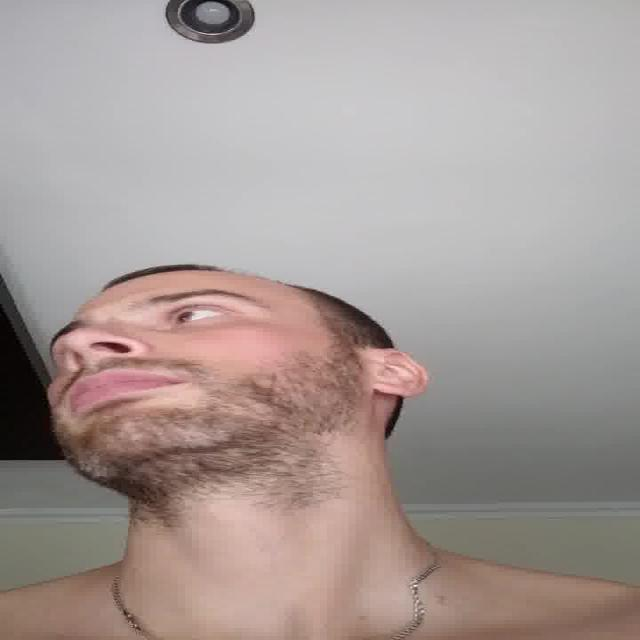earlobe: (369, 382, 432, 399)
eye: (167, 306, 231, 329)
nose: (55, 348, 153, 376)
wholeear: (371, 347, 432, 397)
